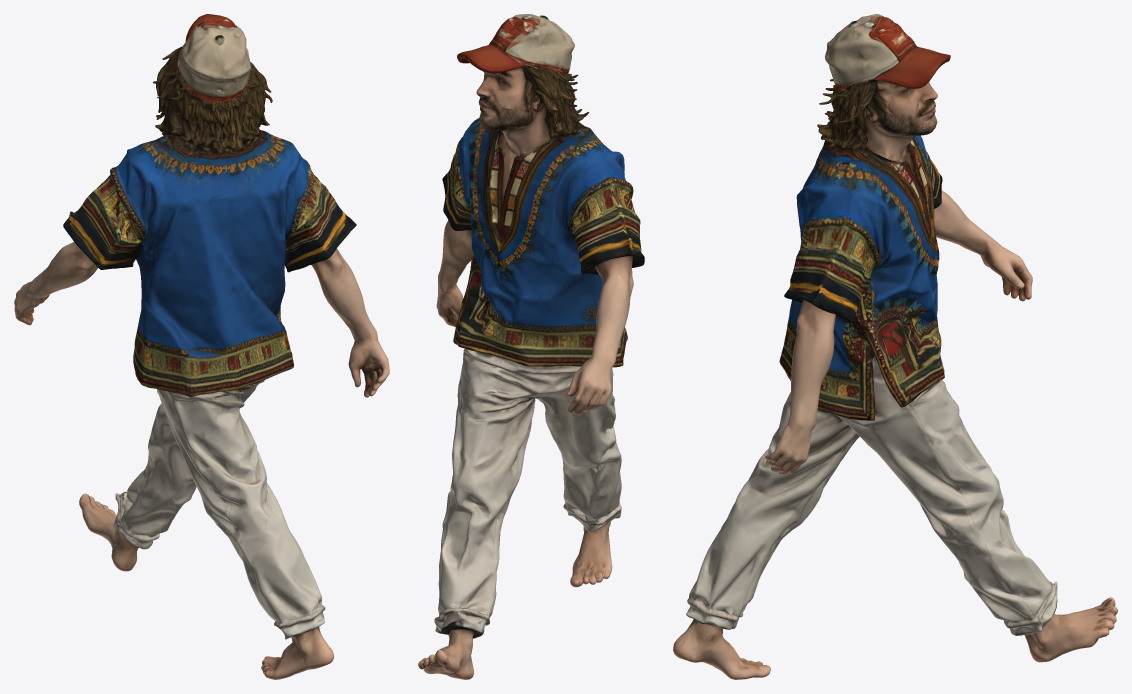
File: iver-08.glb
3 renders of one model, left to right at view 1: azimuth 30°, elevation 25°; view 2: azimuth 150°, elevation 25°; view 3: azimuth 270°, elevation 25°, orthographic. The views are drawn at different scales.
Parts seen in each view (by area): view 1: tripo_node_17c356e2-e101-4023-bc7f-7ebd3ad2d741; view 2: tripo_node_17c356e2-e101-4023-bc7f-7ebd3ad2d741; view 3: tripo_node_17c356e2-e101-4023-bc7f-7ebd3ad2d741.
Part boxes in pixels (<box>): tripo_node_17c356e2-e101-4023-bc7f-7ebd3ad2d741: <box>14,14,389,679</box>; tripo_node_17c356e2-e101-4023-bc7f-7ebd3ad2d741: <box>418,14,644,679</box>; tripo_node_17c356e2-e101-4023-bc7f-7ebd3ad2d741: <box>673,14,1117,679</box>.
Bounding box in the file's own units: 0.4667 × 0.9995 × 0.6153.
1 material, 1 textured.
